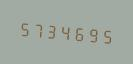five: (17, 15, 30, 40), (101, 23, 114, 48)
four: (59, 19, 72, 44)
nine: (87, 21, 100, 46)
seven: (31, 17, 44, 42)
six: (73, 20, 86, 45)
three: (45, 18, 58, 43)
